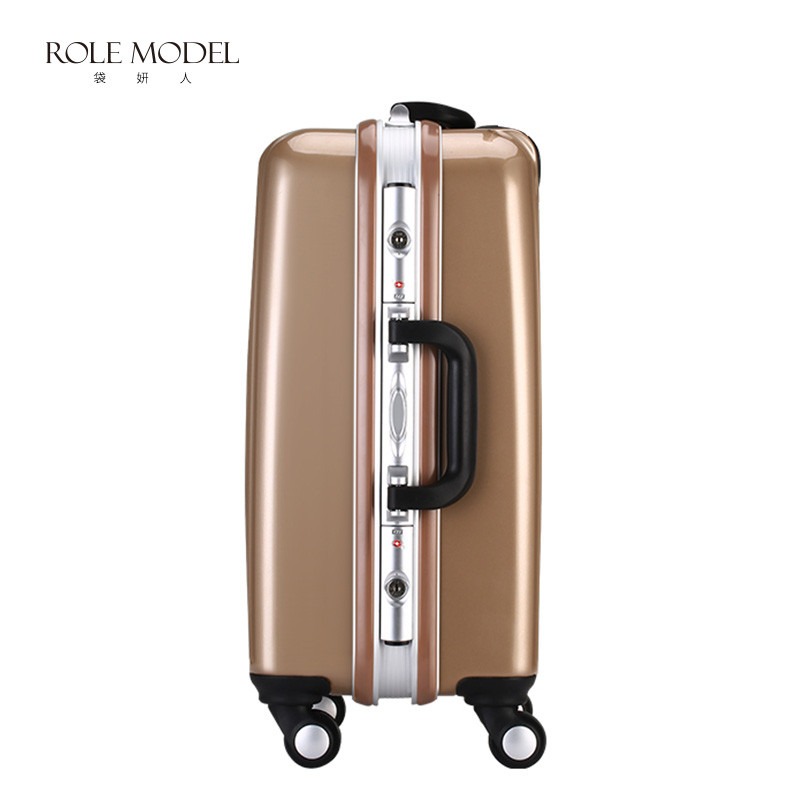luggage: (244, 103, 547, 774)
